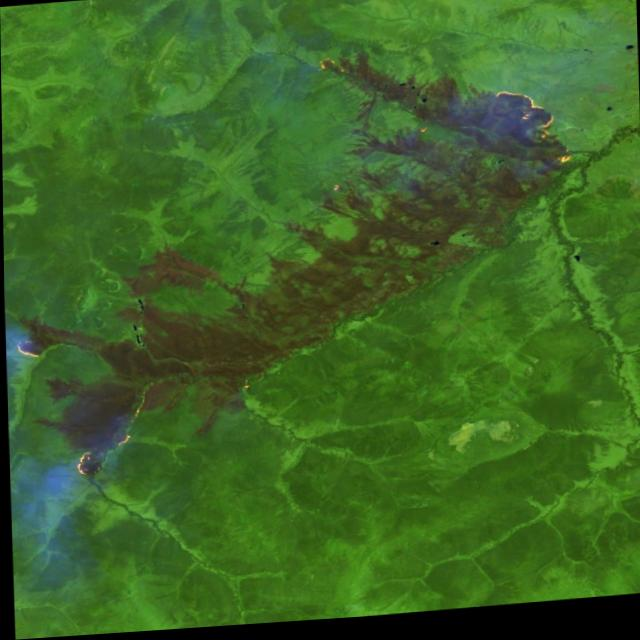fire: (491, 89, 578, 177), (69, 400, 148, 479), (4, 332, 51, 366), (313, 54, 353, 85)
